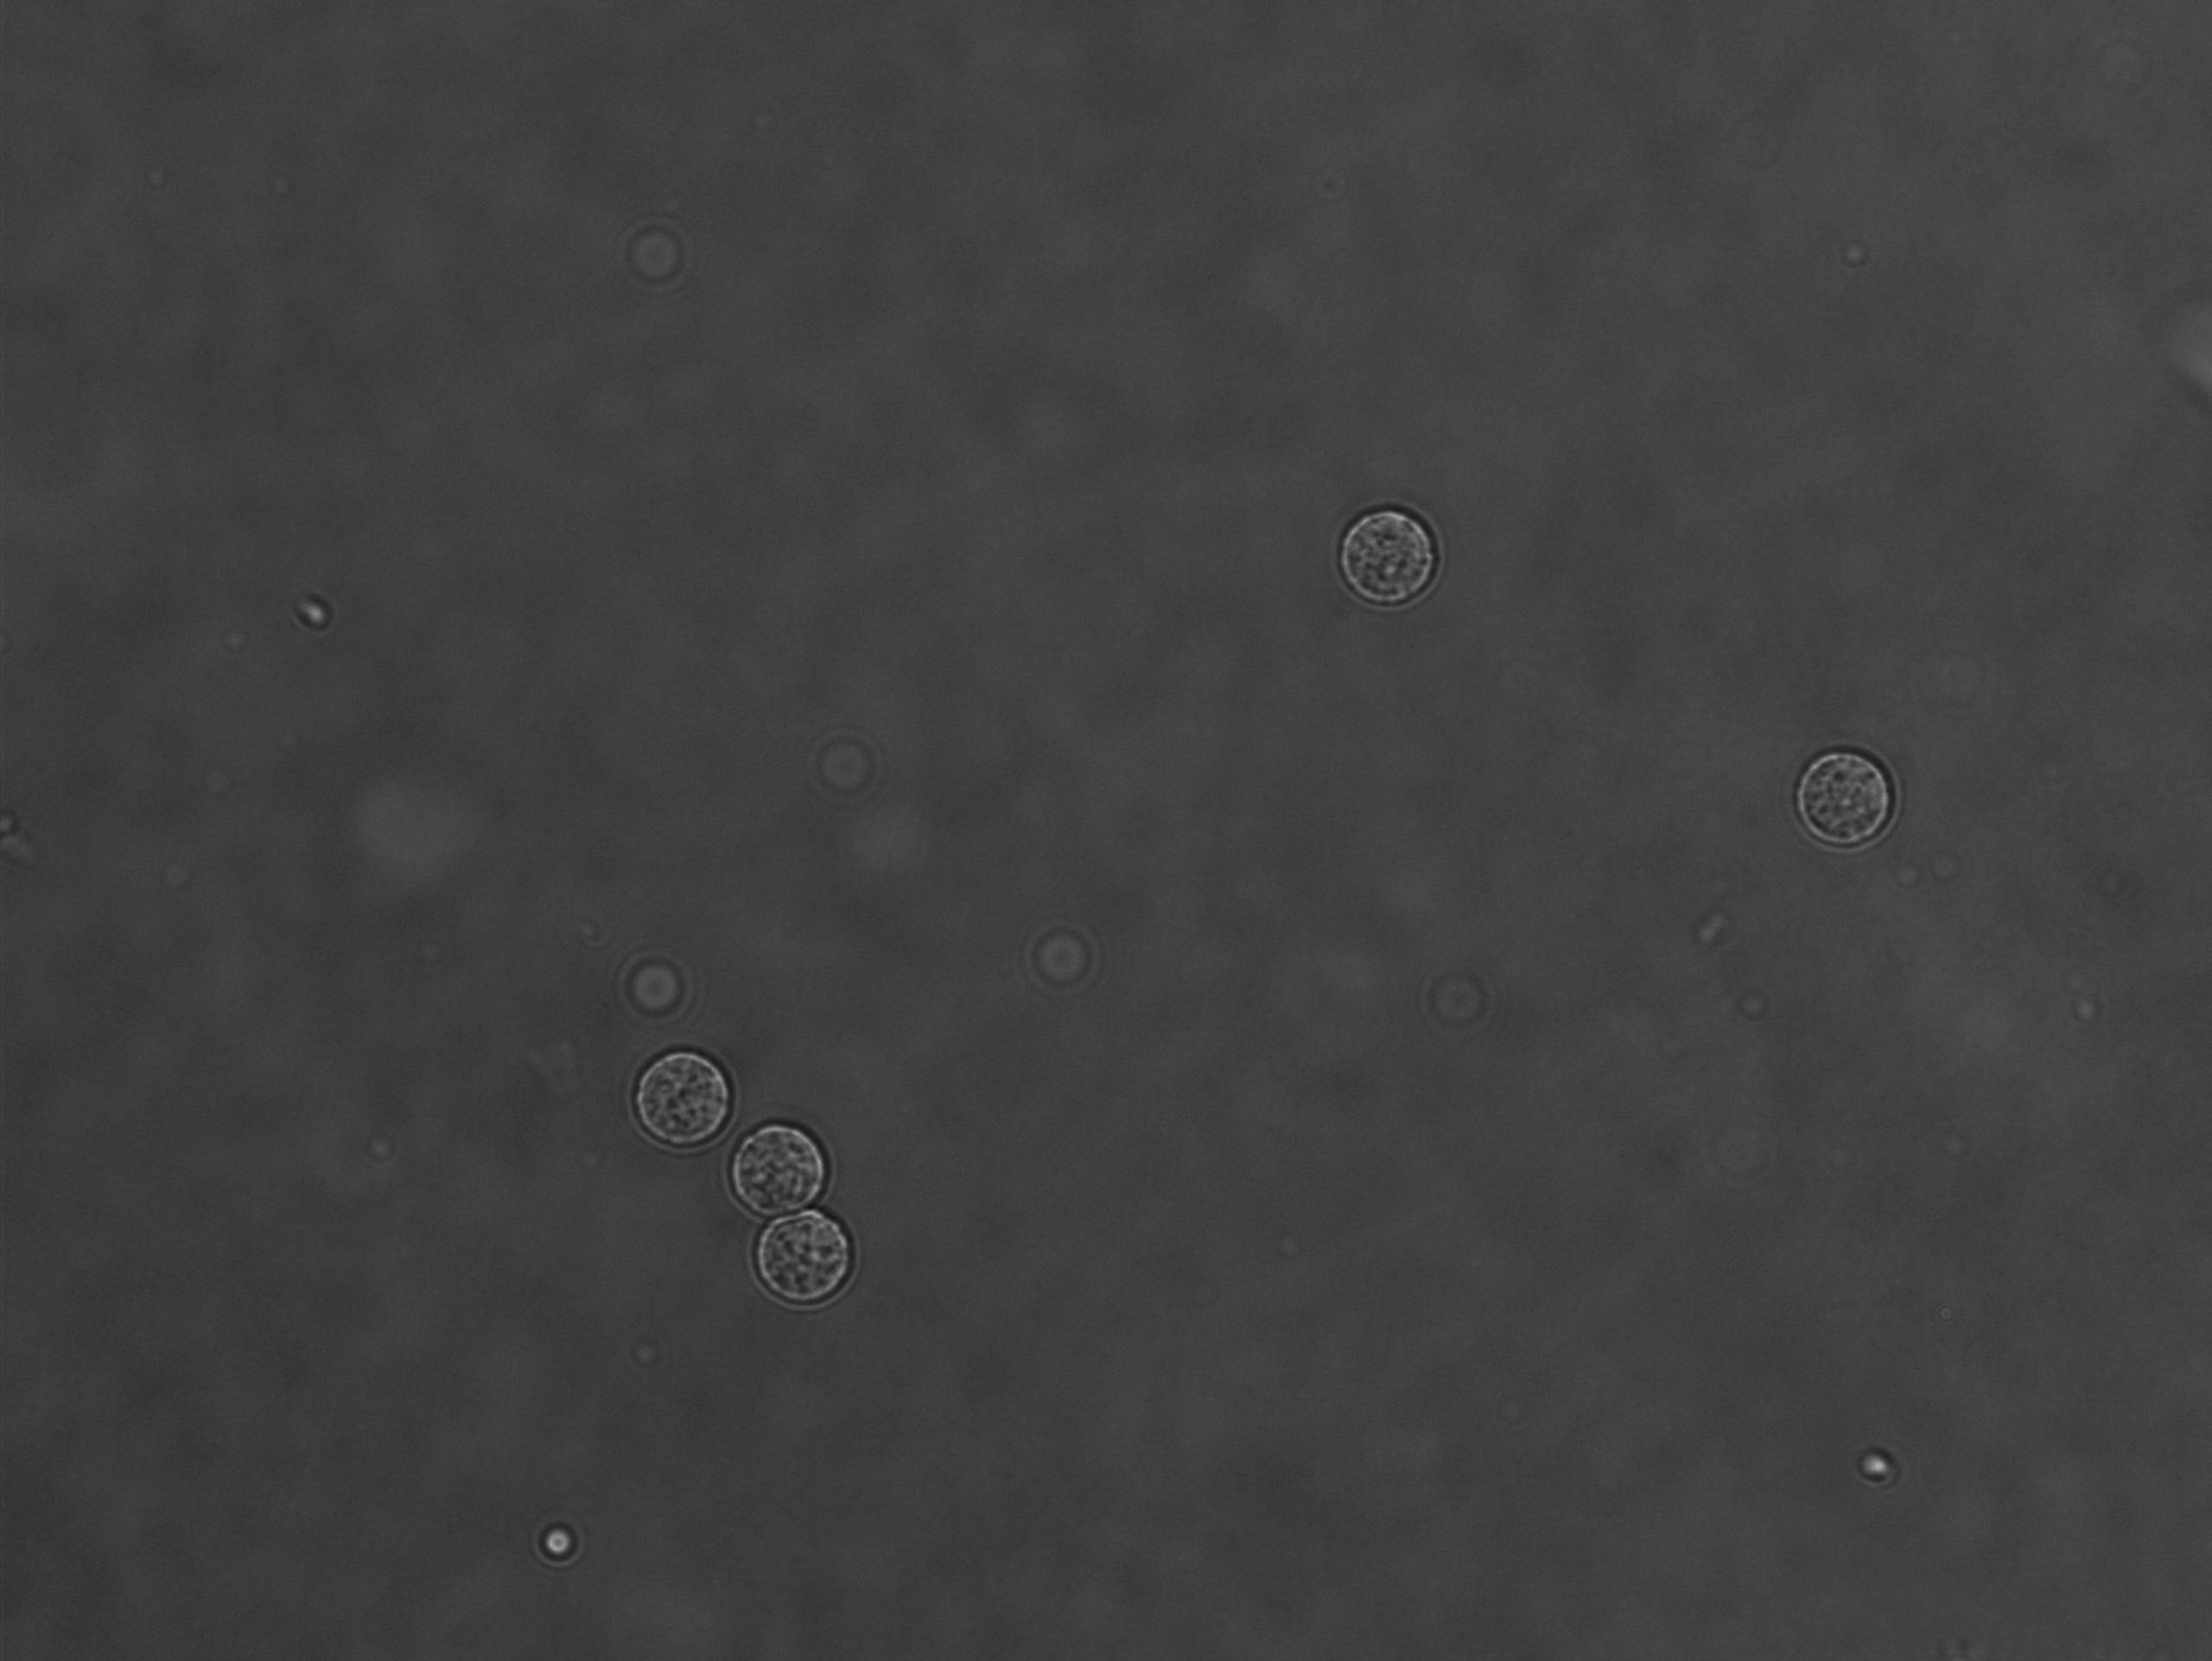depth:0: (1308, 478, 1472, 626), (1772, 724, 1921, 864), (611, 1028, 745, 1160), (745, 1181, 872, 1312), (720, 1117, 839, 1223)
